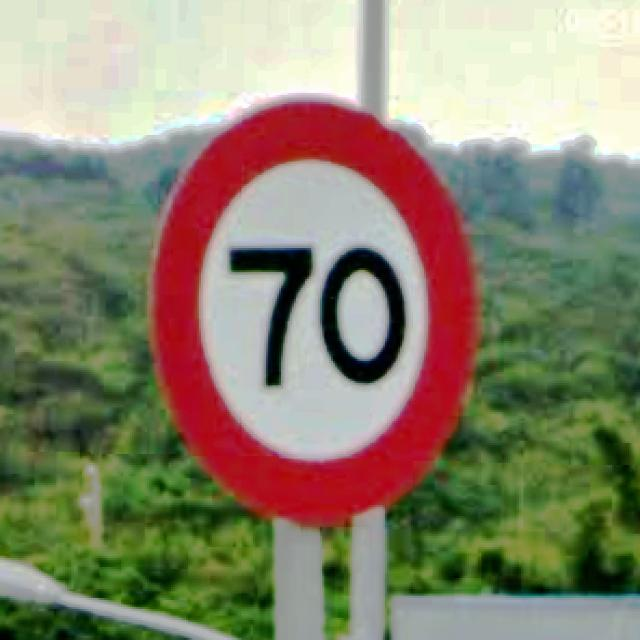max70: (145, 91, 480, 525)
